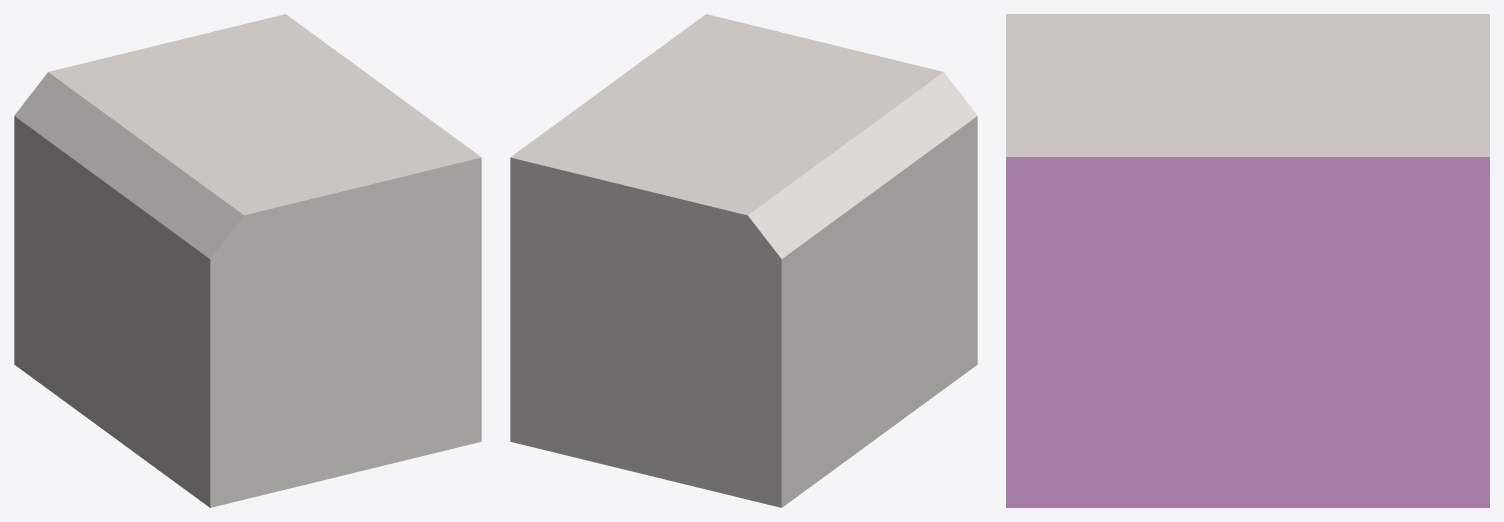
Rendered from Path_Edging_Stones_End_1x1.glb.
The picture shows the model from 3 angles, left to right: view 1: azimuth 30°, elevation 25°; view 2: azimuth 150°, elevation 25°; view 3: azimuth 270°, elevation 25°; orthographic projection. The views are drawn at different scales.
Parts seen in each view (by area): view 1: Path_Edging_Stones_End_1x1; view 2: Path_Edging_Stones_End_1x1; view 3: Path_Edging_Stones_End_1x1.
Boxes of the visible parts, <box> form: Path_Edging_Stones_End_1x1: <box>14,14,481,507</box>; Path_Edging_Stones_End_1x1: <box>510,14,977,507</box>; Path_Edging_Stones_End_1x1: <box>1006,14,1489,507</box>.
Bounding box in the file's own units: 25 × 25 × 31.25.
